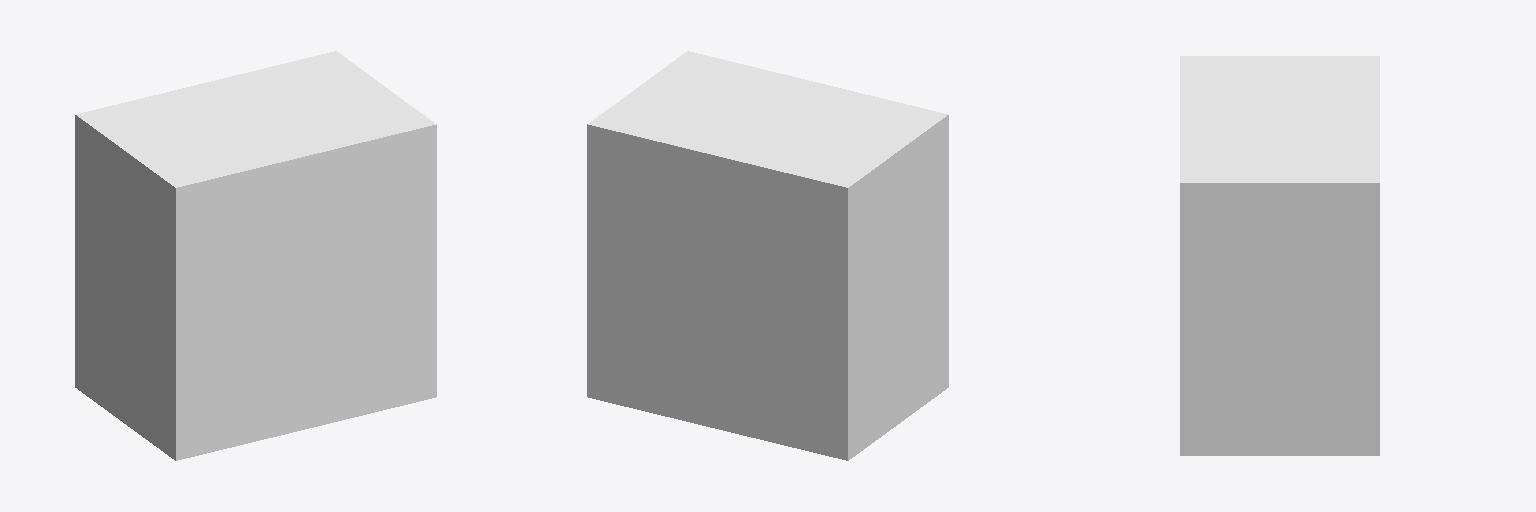
The model's file is Character_01_OMGDC_body.obj.
The picture shows the model from 3 angles: view 1: azimuth 30°, elevation 25°; view 2: azimuth 150°, elevation 25°; view 3: azimuth 270°, elevation 25°; orthographic projection.
Visible parts, largest first — view 1: object 1; view 2: object 1; view 3: object 1.
Boxes of the visible parts, x1,y1,x2,y2 form: object 1: [75, 51, 436, 460]; object 1: [587, 51, 948, 460]; object 1: [1180, 56, 1379, 455].
Size of the model in its own units: 0.6 by 0.6 by 0.4.